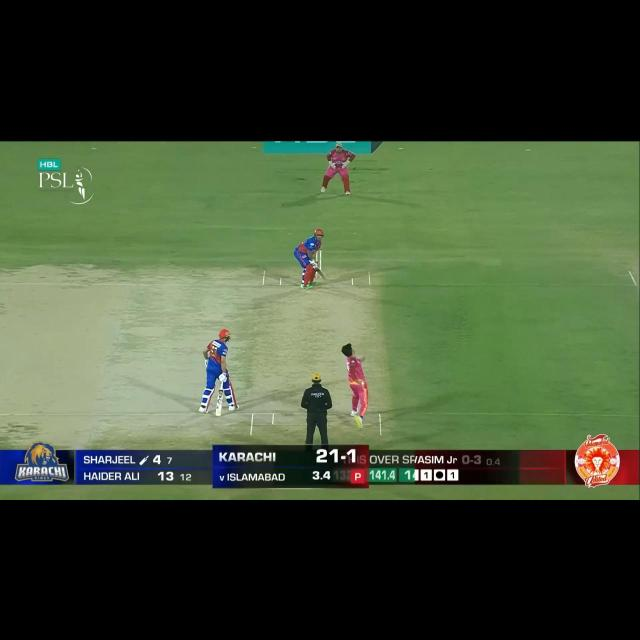bat: (313, 265, 329, 282), (214, 390, 224, 416)
toe: (322, 275, 328, 282), (215, 410, 222, 416)
